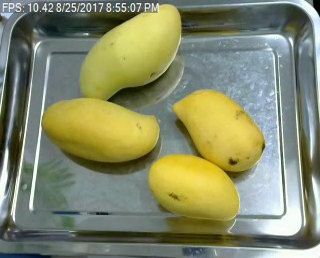Mango: (78, 2, 182, 104), (173, 84, 268, 172), (41, 96, 163, 162), (148, 154, 245, 224)
